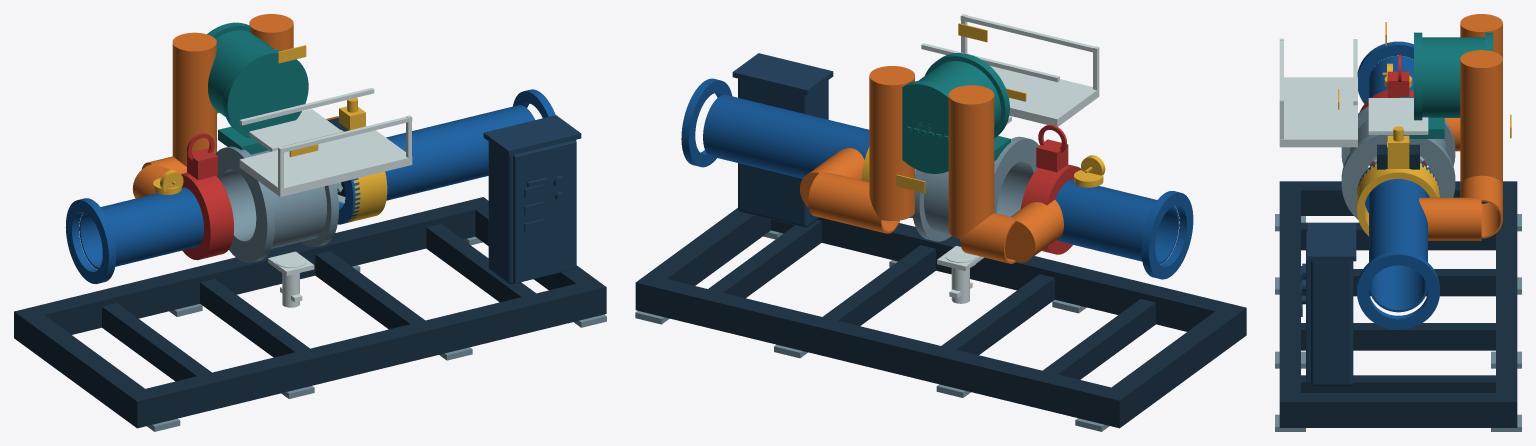
Rendered from regenflow_exploded.glb.
3 views of the same model, side by side, from view 1: azimuth 30°, elevation 25°; view 2: azimuth 150°, elevation 25°; view 3: azimuth 270°, elevation 25° (orthographic). The views are drawn at different scales.
Parts seen in each view (by area): view 1: regenflow.skid_frame, regenflow.control_cabinet, regenflow.inlet_pressure_pipe, regenflow.generator, regenflow.service_platform, regenflow.outlet_pressure_pipe, regenflow.pat_housing, regenflow.service_bypass, regenflow.isolation_valve, regenflow.instrumentation, regenflow.service_cover, regenflow.drain_access; view 2: regenflow.skid_frame, regenflow.service_bypass, regenflow.outlet_pressure_pipe, regenflow.inlet_pressure_pipe, regenflow.control_cabinet, regenflow.generator, regenflow.service_platform, regenflow.pat_housing, regenflow.isolation_valve, regenflow.drain_access, regenflow.instrumentation; view 3: regenflow.skid_frame, regenflow.service_bypass, regenflow.outlet_pressure_pipe, regenflow.control_cabinet, regenflow.service_platform, regenflow.generator, regenflow.pat_housing, regenflow.instrumentation, regenflow.inlet_pressure_pipe, regenflow.service_cover, regenflow.isolation_valve, regenflow.runner_coupling_guard.
Part boxes in pixels (box(x1,y1,x2,y2)): regenflow.skid_frame: box(14, 197, 606, 428); regenflow.control_cabinet: box(483, 115, 581, 284); regenflow.inlet_pressure_pipe: box(65, 187, 203, 283); regenflow.generator: box(207, 22, 308, 154); regenflow.service_platform: box(239, 88, 412, 196); regenflow.outlet_pressure_pipe: box(338, 89, 555, 224); regenflow.pat_housing: box(215, 146, 338, 262); regenflow.service_bypass: box(132, 14, 338, 198); regenflow.isolation_valve: box(181, 148, 233, 260); regenflow.instrumentation: box(153, 97, 387, 222); regenflow.service_cover: box(249, 109, 342, 151); regenflow.drain_access: box(268, 251, 314, 307); regenflow.skid_frame: box(635, 208, 1246, 428); regenflow.service_bypass: box(800, 66, 1063, 263); regenflow.outlet_pressure_pipe: box(681, 78, 912, 217); regenflow.inlet_pressure_pipe: box(1055, 179, 1193, 279); regenflow.control_cabinet: box(732, 53, 833, 227); regenflow.generator: box(902, 53, 1010, 173); regenflow.service_platform: box(921, 14, 1099, 126); regenflow.pat_housing: box(912, 136, 1038, 241); regenflow.isolation_valve: box(1020, 139, 1081, 254); regenflow.drain_access: box(937, 246, 983, 303); regenflow.instrumentation: box(861, 147, 1105, 187); regenflow.skid_frame: box(1279, 181, 1517, 427); regenflow.service_bypass: box(1419, 14, 1502, 240); regenflow.outlet_pressure_pipe: box(1357, 162, 1439, 329); regenflow.control_cabinet: box(1300, 222, 1356, 385); regenflow.service_platform: box(1279, 38, 1357, 147); regenflow.generator: box(1399, 32, 1493, 138); regenflow.pat_housing: box(1341, 106, 1455, 219); regenflow.instrumentation: box(1357, 63, 1439, 236); regenflow.inlet_pressure_pipe: box(1357, 41, 1413, 103); regenflow.service_cover: box(1368, 98, 1428, 134); regenflow.isolation_valve: box(1360, 71, 1427, 166); regenflow.runner_coupling_guard: box(1377, 144, 1419, 169).
Size of the model in its own units: 2200 by 1314 by 1040.
